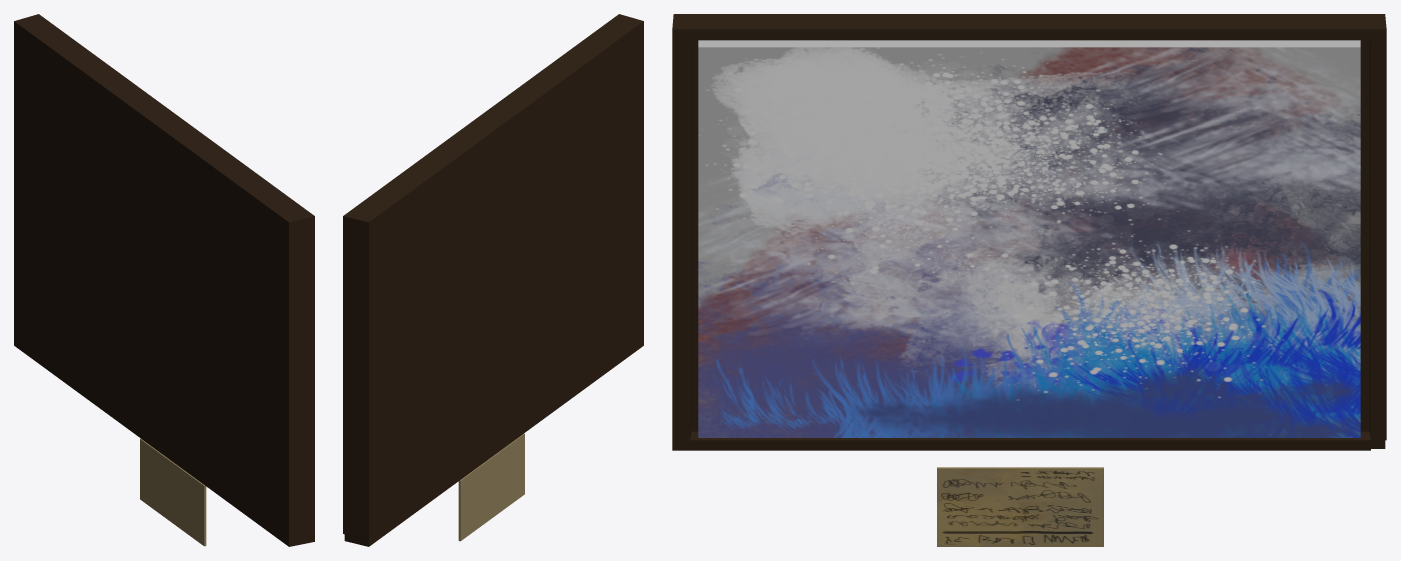
Rendered from painting1.fbx.
3 renders of one model, left to right at view 1: azimuth 30°, elevation 25°; view 2: azimuth 150°, elevation 25°; view 3: azimuth 270°, elevation 25°, orthographic. The views are drawn at different scales.
Visible parts, largest first — view 1: Painting.001; view 2: Painting.001; view 3: Painting.001.
Boxes of the visible parts, bbox=[...] form: Painting.001: bbox=[14, 14, 314, 546]; Painting.001: bbox=[343, 14, 643, 546]; Painting.001: bbox=[672, 14, 1386, 546].
Bounding box in the file's own units: 1171 × 943 × 72.73.
3 materials, 2 textured.
